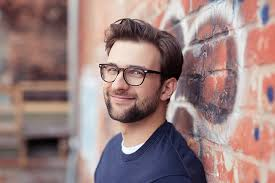b.y: (106, 90, 141, 122)
